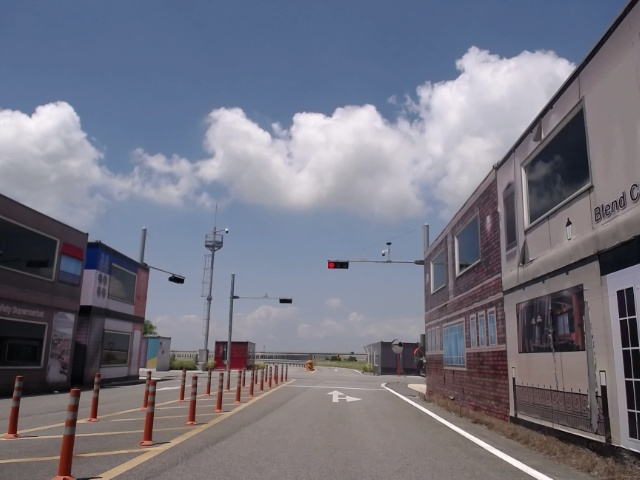red_3: (328, 262, 350, 269)
